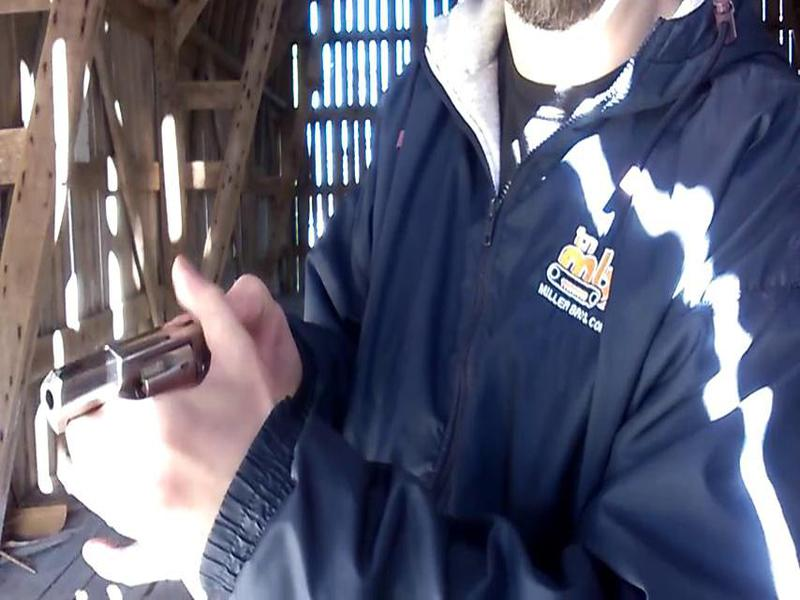Revolver: (36, 314, 259, 454)
